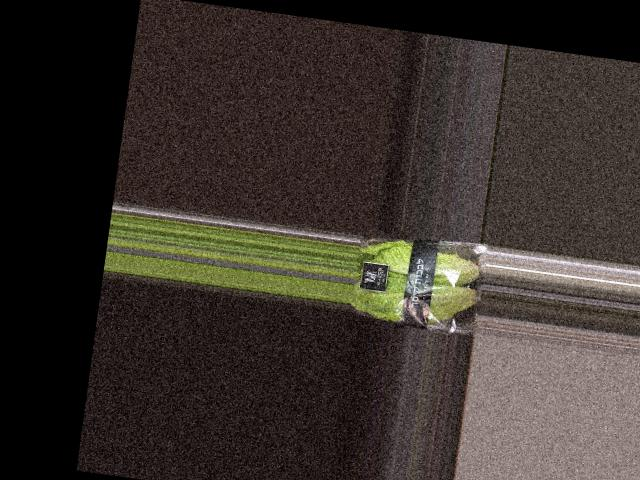lettuce: (351, 227, 489, 330)
